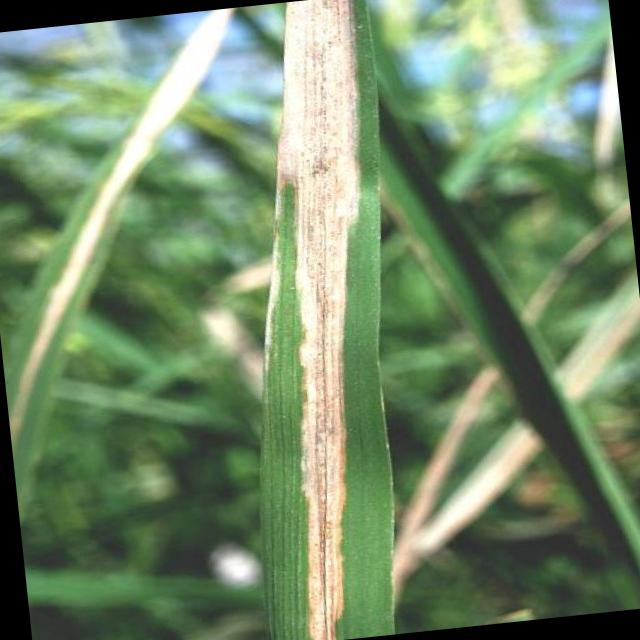Rice_Bacterial_Blight: (244, 1, 378, 640)
